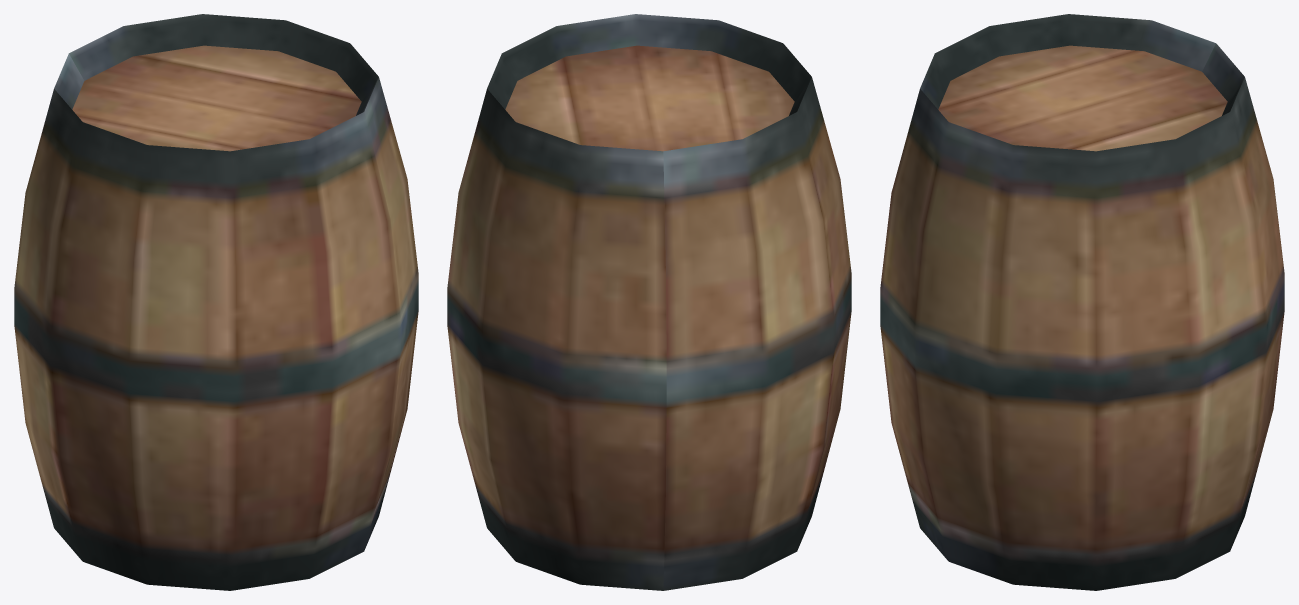
File: com_barrel_01.fbx
The picture shows the model from 3 angles, left to right: view 1: azimuth 30°, elevation 25°; view 2: azimuth 150°, elevation 25°; view 3: azimuth 270°, elevation 25°; orthographic projection.
Parts seen in each view (by area): view 1: com_barrel_01; view 2: com_barrel_01; view 3: com_barrel_01.
Part boxes in pixels (x1,y1,x2,y2): com_barrel_01: (14,14,418,590); com_barrel_01: (447,14,851,590); com_barrel_01: (880,14,1284,590).
Bounding box in the file's own units: 1.05 × 1.26 × 1.05.
1 material, 1 textured.
